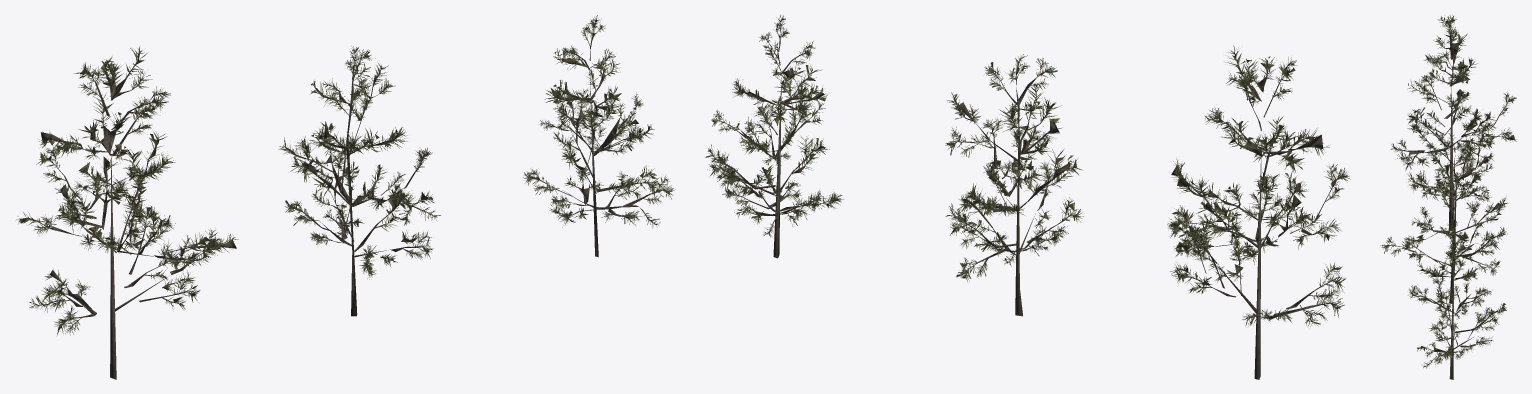
File: pine_sapling_small.glb
3 renders of one model, left to right at view 1: azimuth 30°, elevation 25°; view 2: azimuth 150°, elevation 25°; view 3: azimuth 270°, elevation 25°, orthographic. The views are drawn at different scales.
Visible parts, largest first — view 1: sb_modello; view 2: sb_modello; view 3: sb_modello.
Boxes of the visible parts, x1,y1,x2,y2 form: sb_modello: (16,15,675,379); sb_modello: (705,14,1350,379); sb_modello: (1380,15,1516,379).
Size of the model in its own units: 2.64 by 1.3 by 0.7694.
2 materials, 2 textured.
